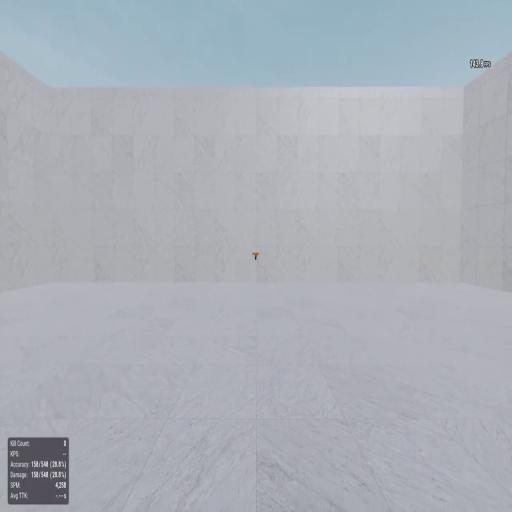Crosshair: (255, 254, 257, 258)
Target: (254, 256, 256, 260)
